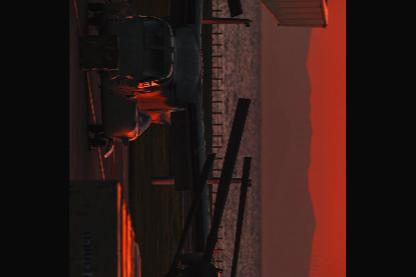Tornado: (88, 0, 254, 276)
